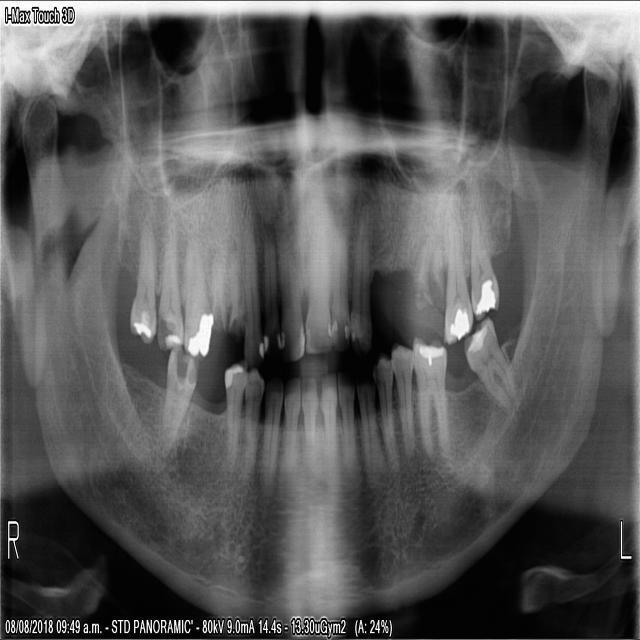LCD: (353, 358, 378, 502)
LID: (335, 365, 355, 503), (318, 369, 336, 505)
LIU: (324, 180, 350, 355), (347, 199, 371, 356)
LMD: (409, 326, 449, 468), (460, 313, 515, 415)
LMU: (440, 205, 474, 348), (468, 200, 499, 323)
LPMD: (369, 351, 399, 491), (388, 335, 415, 476)
RCD: (258, 370, 284, 519)
RID: (298, 371, 319, 500), (282, 373, 300, 513)
RIU: (302, 191, 333, 356), (276, 193, 305, 366)
RMD: (150, 340, 199, 475)
RMU: (181, 218, 213, 357), (153, 208, 183, 353), (127, 201, 156, 347)
RPMD: (221, 357, 248, 490), (240, 362, 265, 502)
